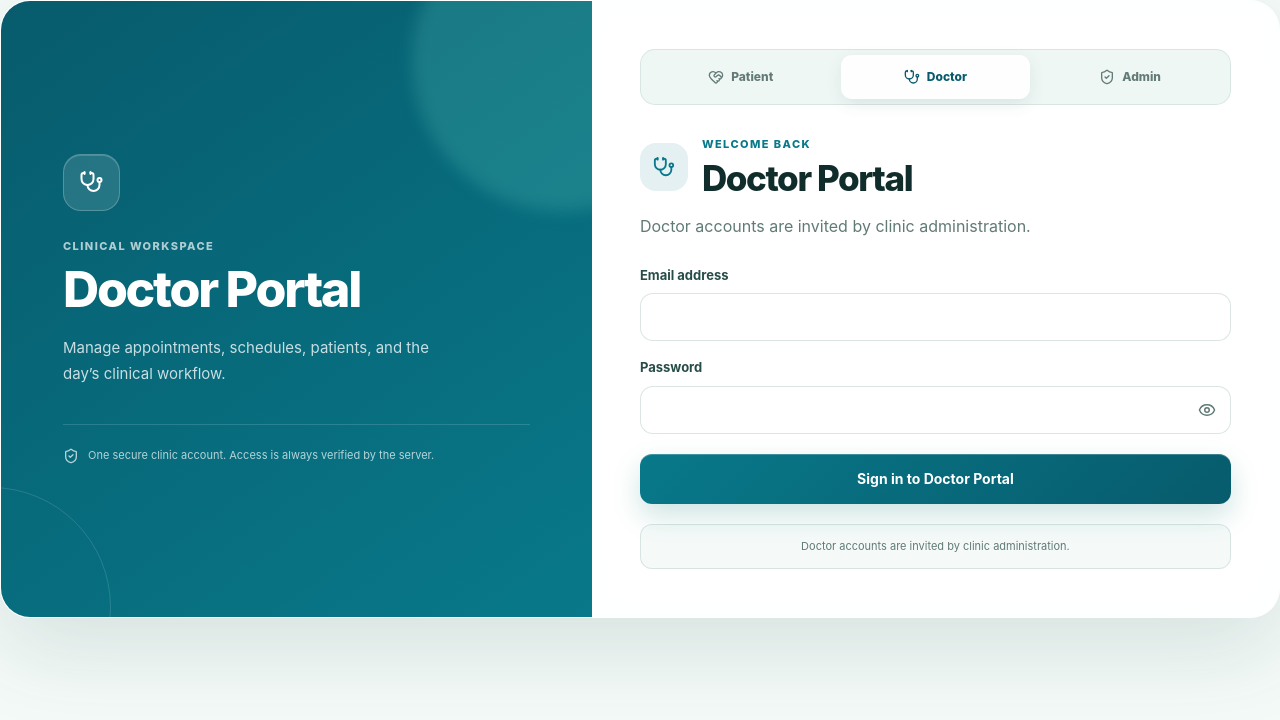
Test: role-aware LoginPage › cannot turn a Patient into a Doctor and presents a role mismatch action
The width and height of the screenshot is (1280, 720).
Type "person@example.test" into the field labelled "Email address" at (935, 317), box [640, 293, 1231, 341]
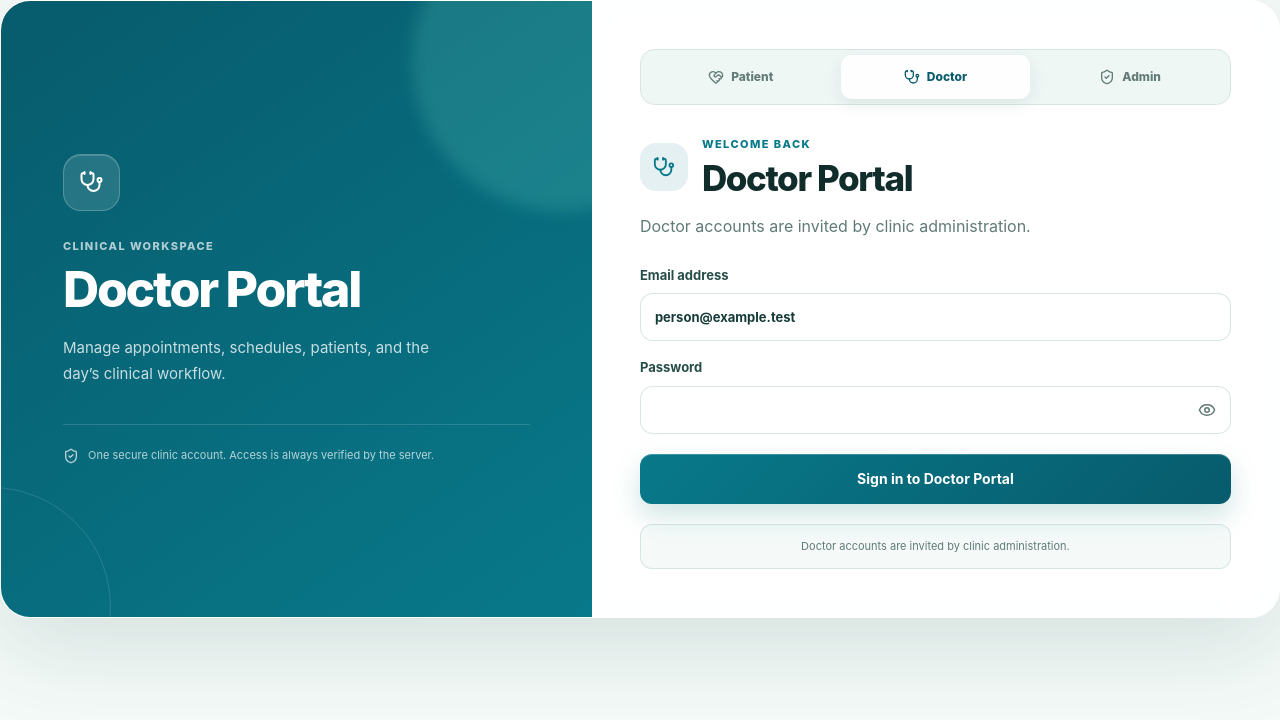
Type "Password123!" into the password field labelled "Password" at (935, 410), box [640, 386, 1231, 434]
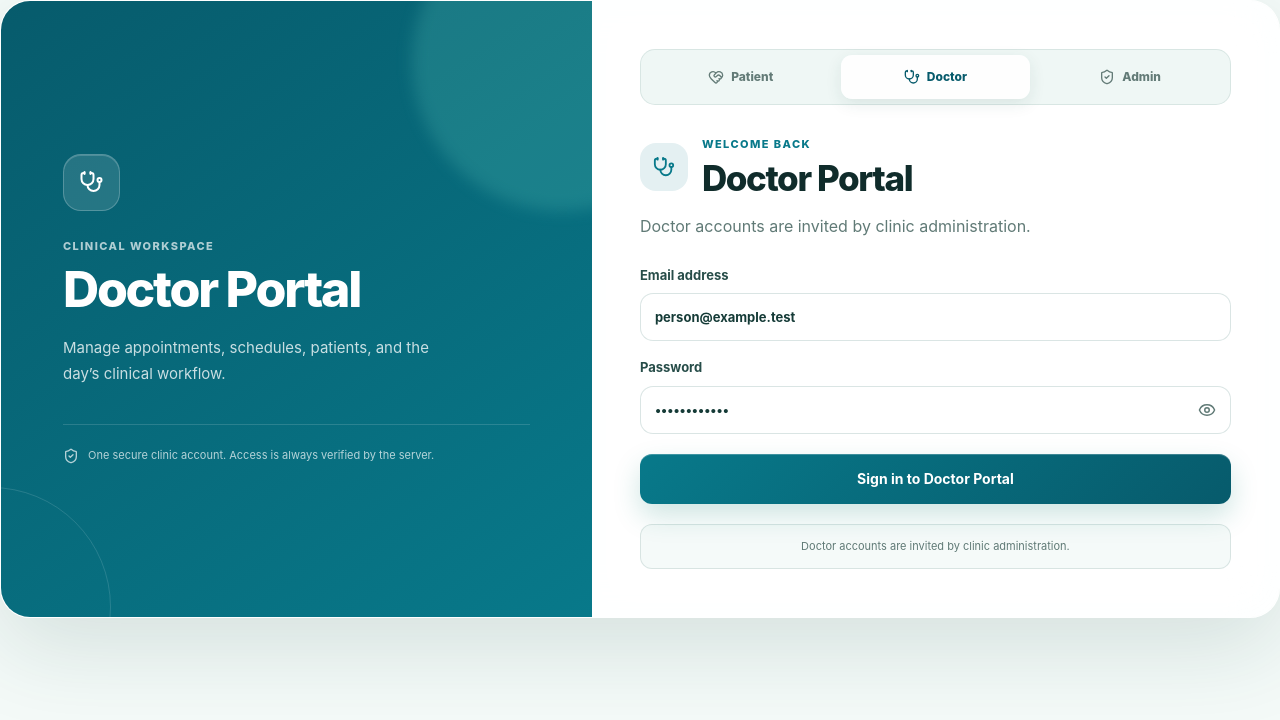
Click the button "Sign in to Doctor Portal" at (935, 479), box [640, 454, 1231, 504]
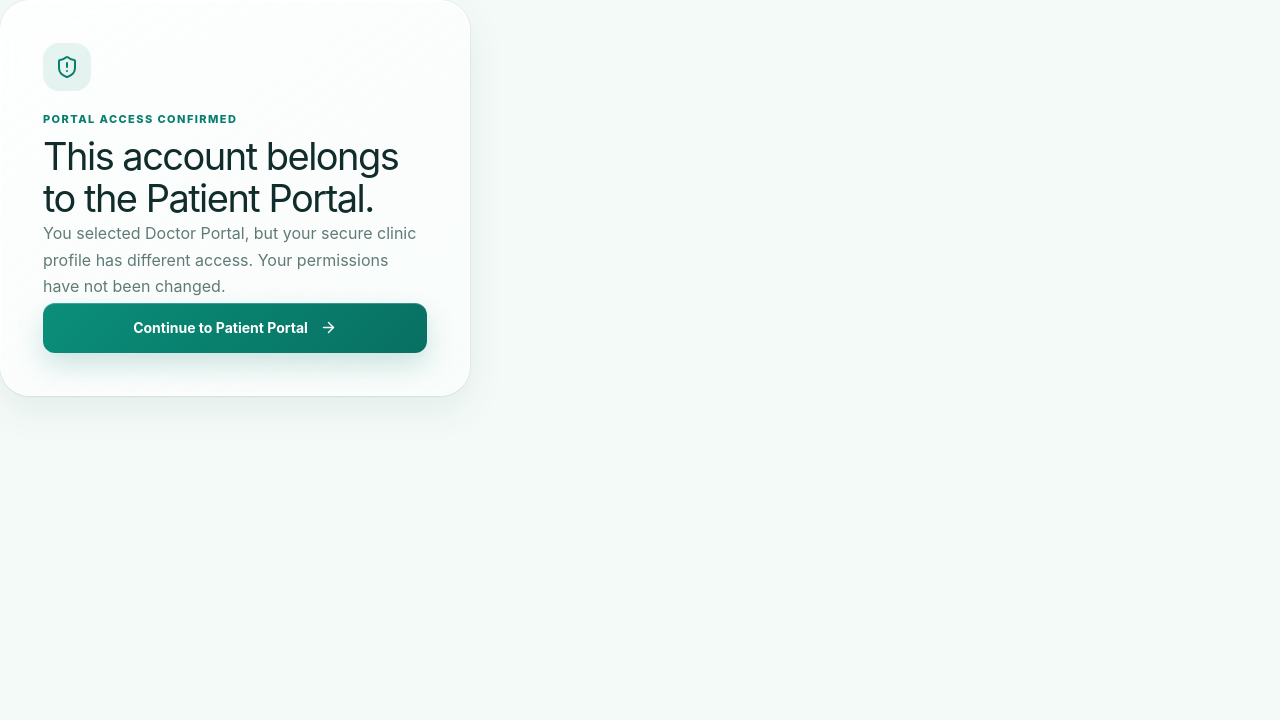
Check: the heading "This account belongs to the Patient Portal." is shown, box [43, 134, 427, 220]
Check: the button "Continue to Patient Portal" is shown, box [43, 302, 427, 352]
